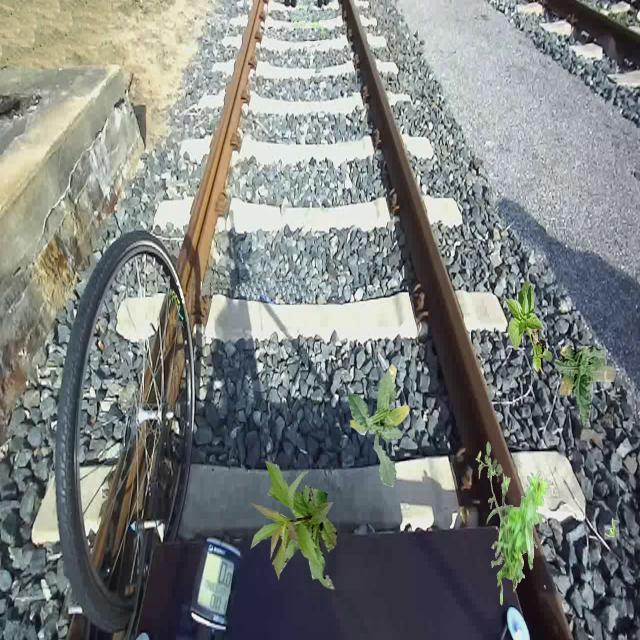Plant: (249, 461, 338, 591), (487, 462, 552, 606), (348, 363, 410, 488), (553, 345, 616, 428), (505, 280, 553, 375), (475, 442, 502, 483), (605, 517, 619, 538)
